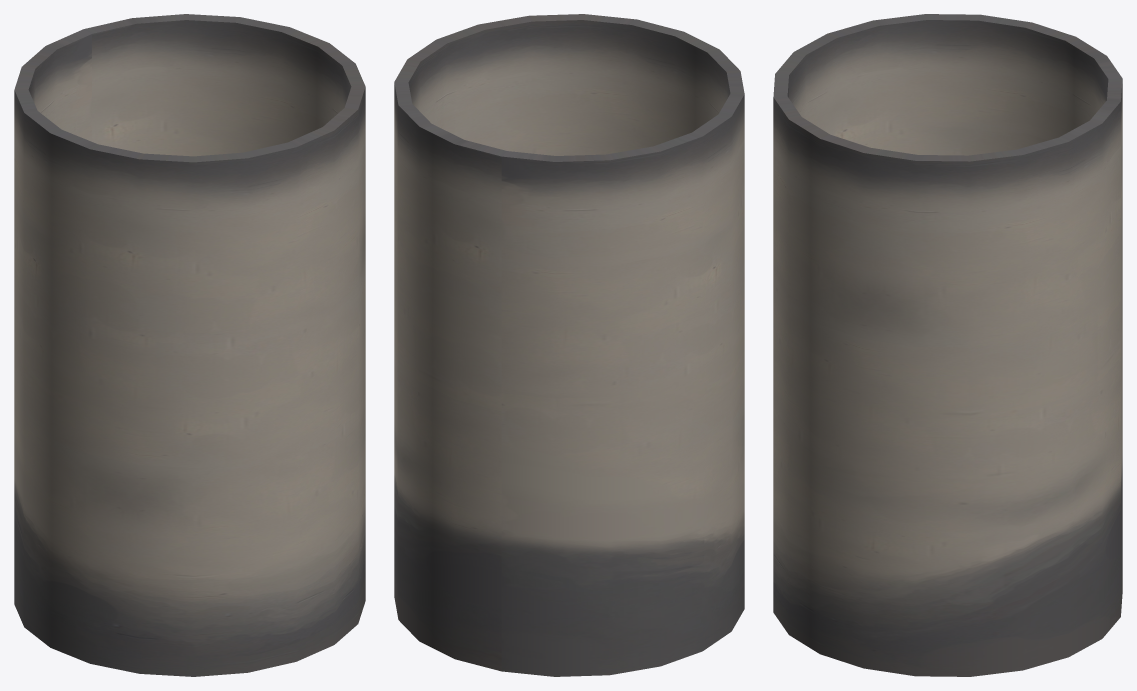
File: muurmainloopable.fbx
3 views of the same model, side by side, from view 1: azimuth 30°, elevation 25°; view 2: azimuth 150°, elevation 25°; view 3: azimuth 270°, elevation 25° (orthographic).
Visible parts, largest first — view 1: pCylinder4; view 2: pCylinder4; view 3: pCylinder4.
Boxes of the visible parts, box(x1,y1,x2,y2) form: pCylinder4: box(14, 14, 365, 676); pCylinder4: box(394, 14, 744, 676); pCylinder4: box(773, 14, 1122, 676).
Bounding box in the file's own units: 17.96 × 29.26 × 17.96.
